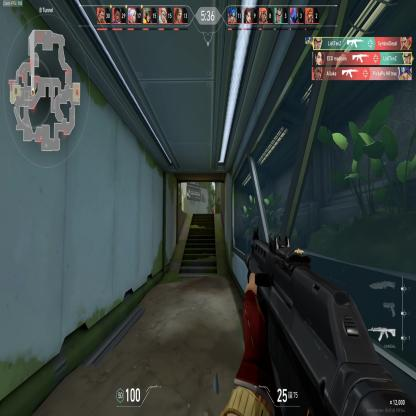enemy: (210, 206, 214, 214)
